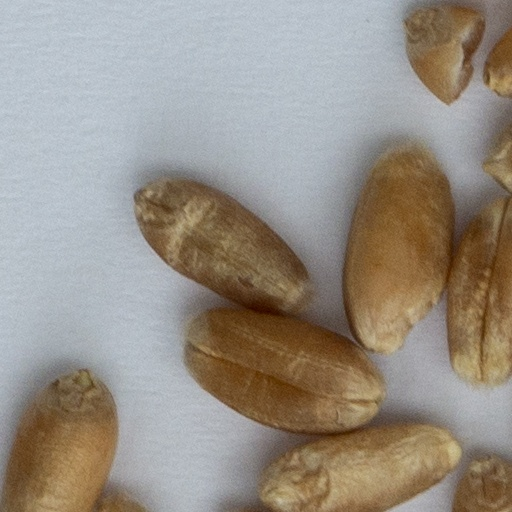Wheat-grain-damaged-poly: (406, 4, 482, 102)
